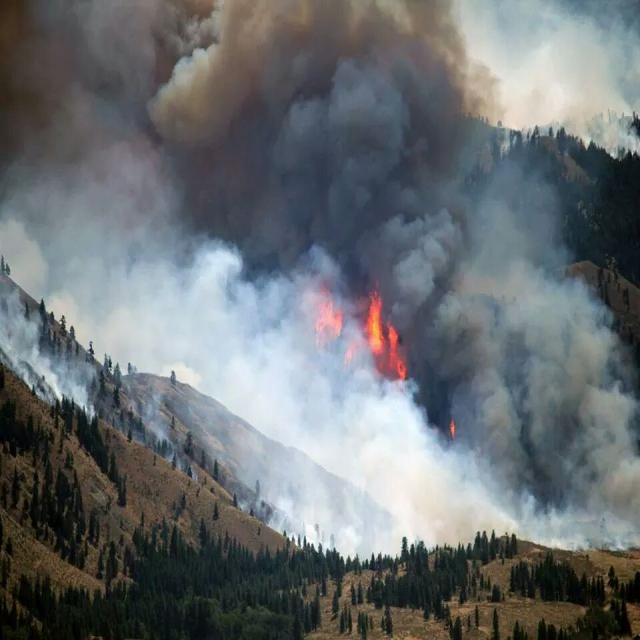Smoke: (76, 202, 297, 388), (456, 242, 592, 512), (258, 403, 450, 539)
